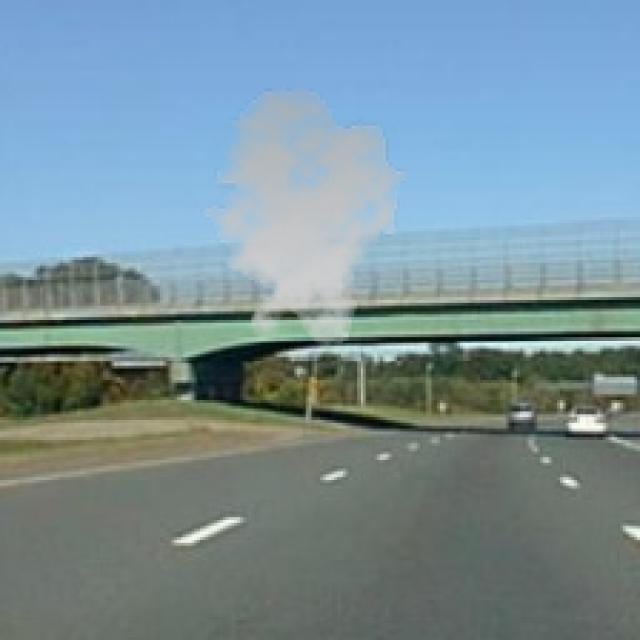Smoke: (192, 85, 412, 348)
